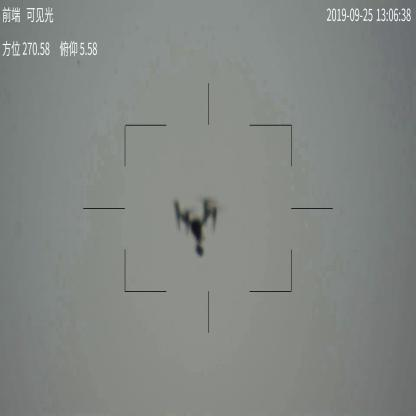uav: (172, 191, 226, 255)
